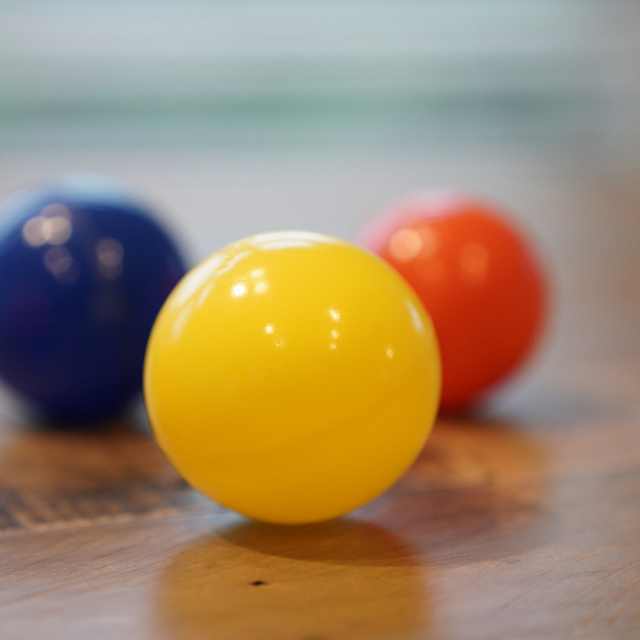Ball: (143, 229, 441, 525)
